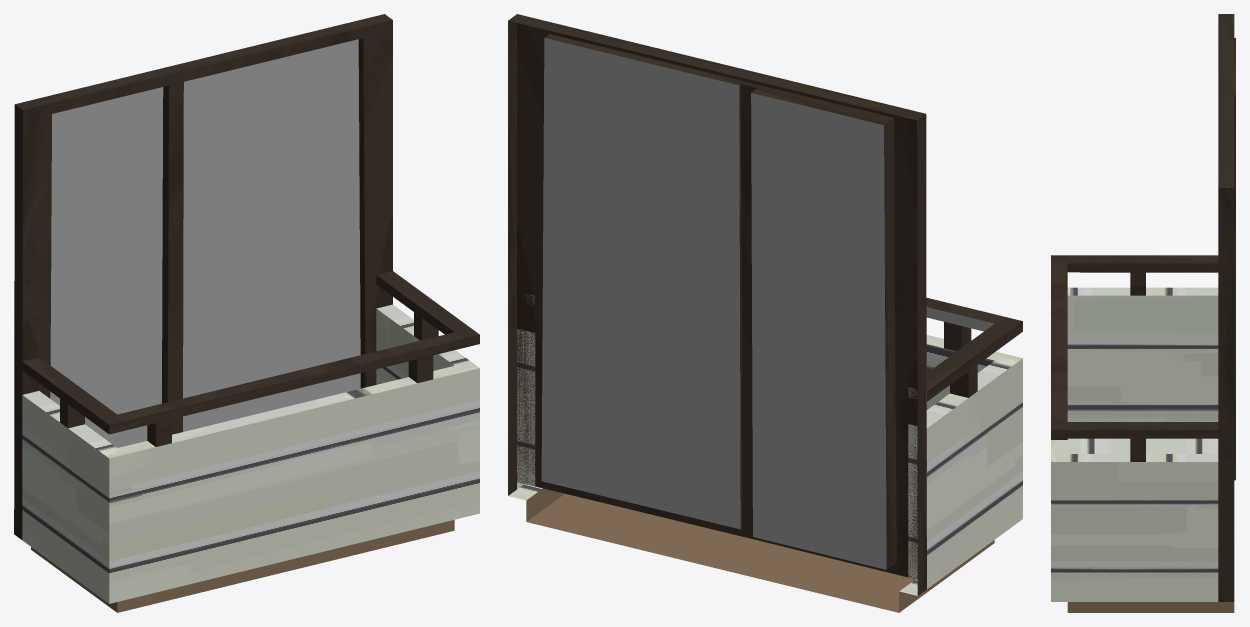
The model's file is Balcony2wDoors 1.fbx.
3 renders of one model, left to right at view 1: azimuth 30°, elevation 25°; view 2: azimuth 150°, elevation 25°; view 3: azimuth 270°, elevation 25°, orthographic. The views are drawn at different scales.
Visible parts, largest first — view 1: BalconyStyle2WithDoor; view 2: BalconyStyle2WithDoor; view 3: BalconyStyle2WithDoor.
Part boxes in pixels (bbox=[...]): BalconyStyle2WithDoor: bbox=[14, 14, 479, 612]; BalconyStyle2WithDoor: bbox=[508, 14, 1022, 612]; BalconyStyle2WithDoor: bbox=[1051, 14, 1235, 612].
Size of the model in its own units: 315 by 365 by 141.
Materials: 5 (2 with a texture image).
